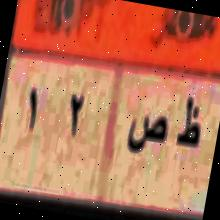1: (19, 82, 45, 140)
2: (61, 88, 90, 144)
Thaa: (171, 95, 207, 161)
saad: (123, 100, 171, 160)
